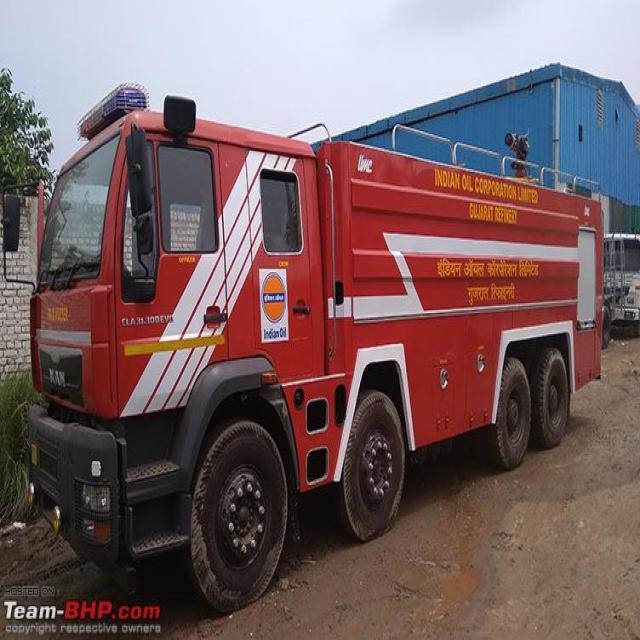emergency: (28, 91, 602, 611)
